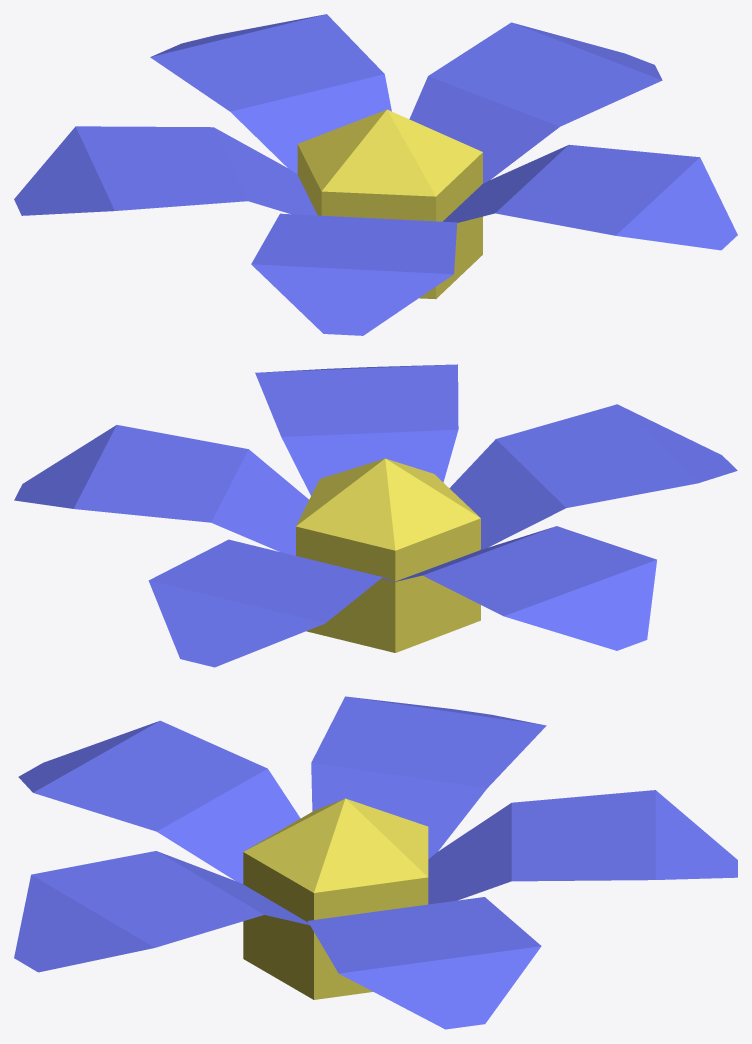
The model's file is Flower_Blue_4.fbx.
3 renders of one model, top to bottom at view 1: azimuth 30°, elevation 25°; view 2: azimuth 150°, elevation 25°; view 3: azimuth 270°, elevation 25°, orthographic. The views are drawn at different scales.
Parts seen in each view (by area): view 1: Flower_Blue_4; view 2: Flower_Blue_4; view 3: Flower_Blue_4.
Boxes of the visible parts, x1,y1,x2,y2 form: Flower_Blue_4: [14, 14, 737, 335]; Flower_Blue_4: [14, 364, 737, 667]; Flower_Blue_4: [14, 696, 737, 1029].
Bounding box in the file's own units: 34.6 × 8.08 × 33.04.
